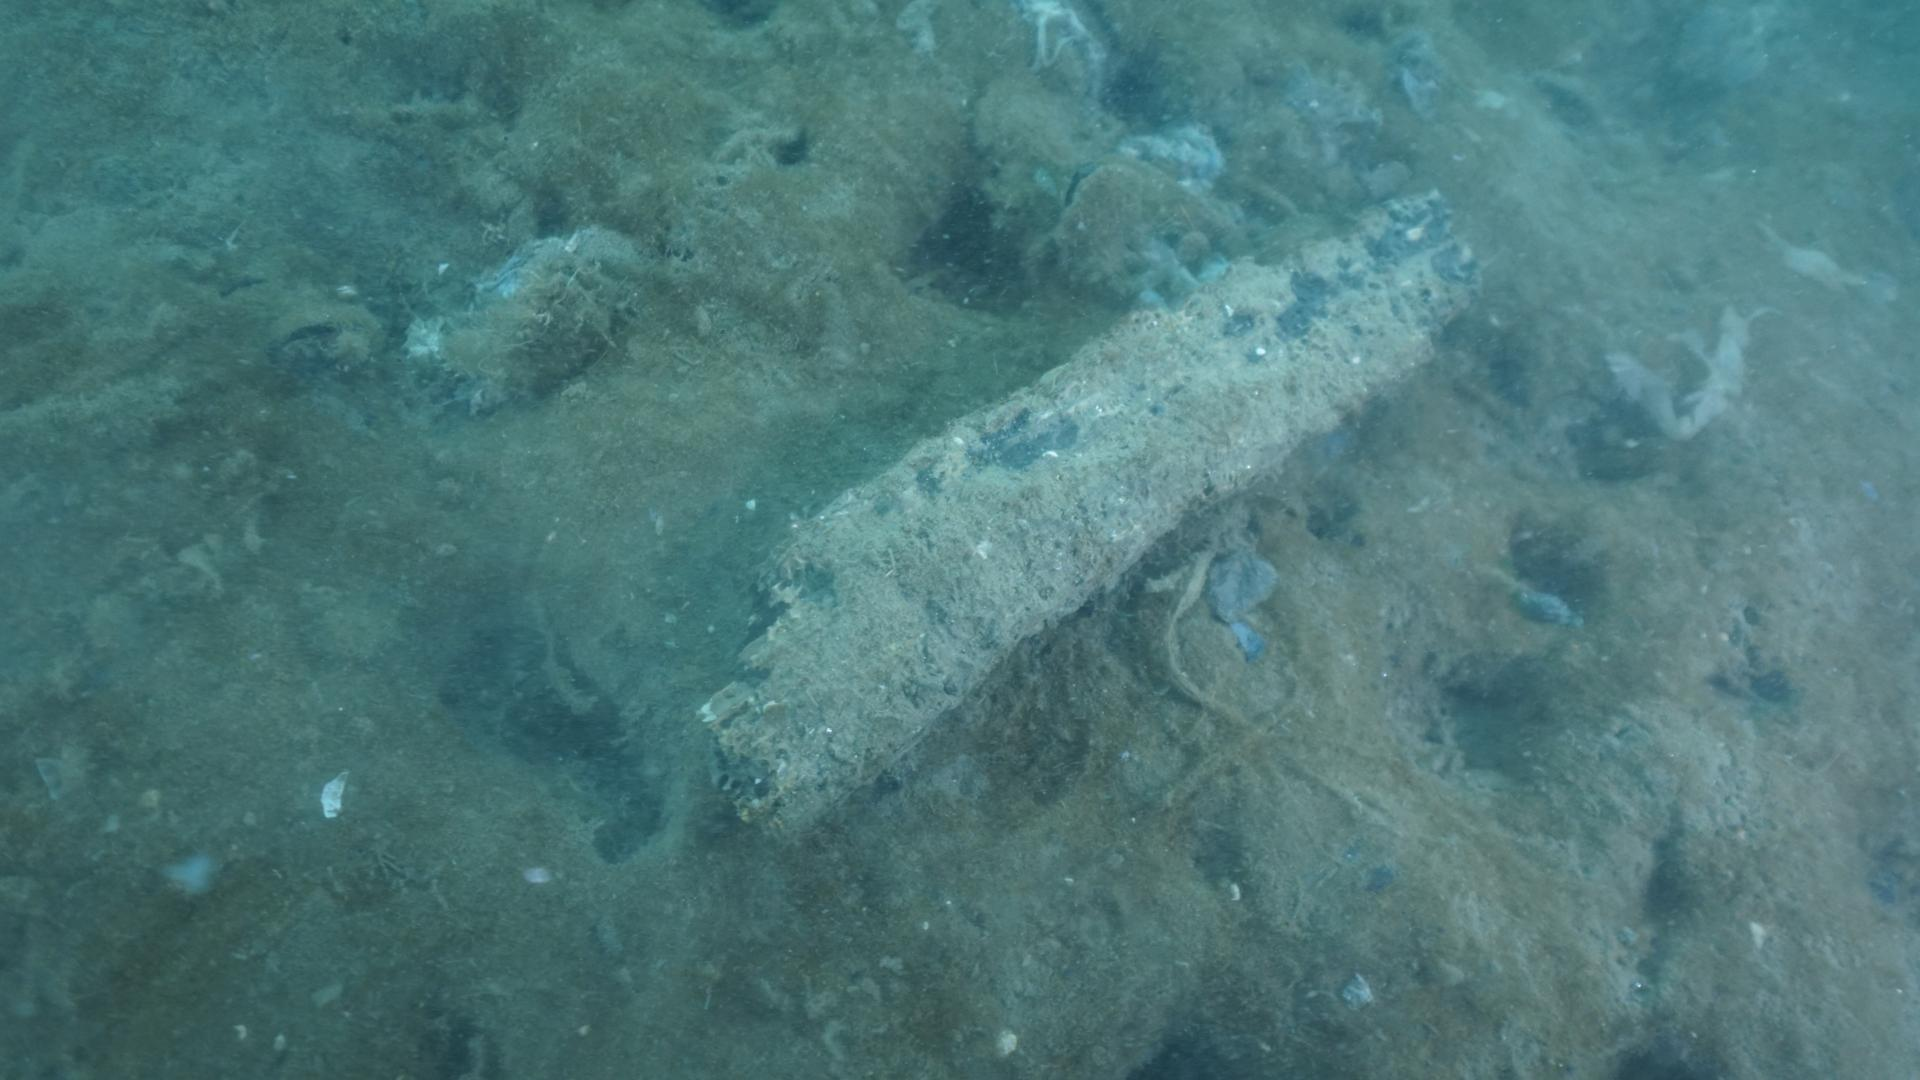wood: (694, 182, 1494, 853)
